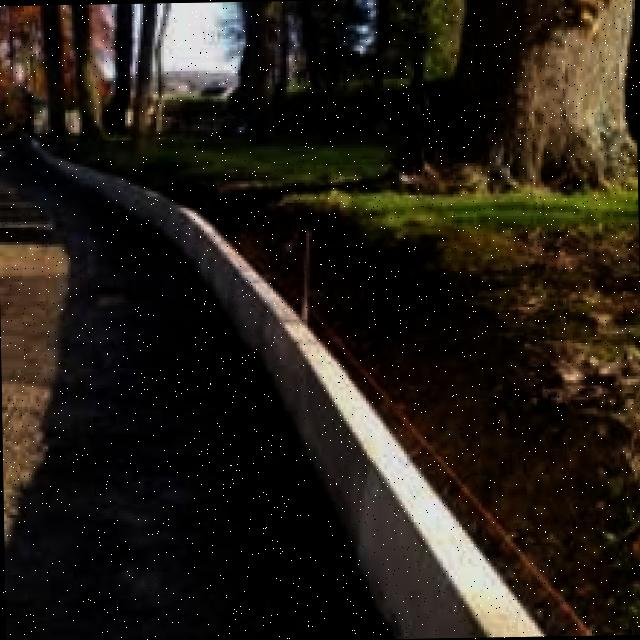curb: (360, 450, 552, 632), (298, 356, 397, 549), (266, 314, 337, 430)
